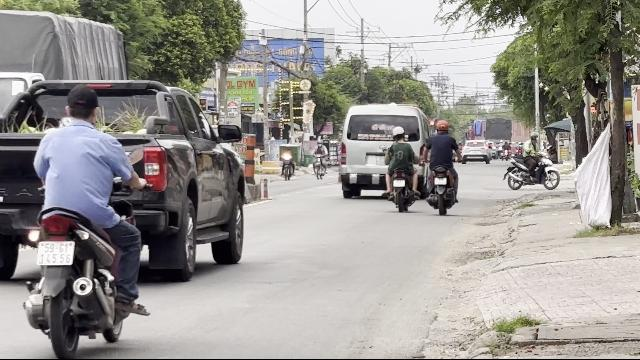helmet: (198, 87, 216, 109)
licenseplate: (37, 241, 74, 265)
motorcyclist: (20, 84, 150, 356)
nohelmet: (63, 85, 101, 126)
